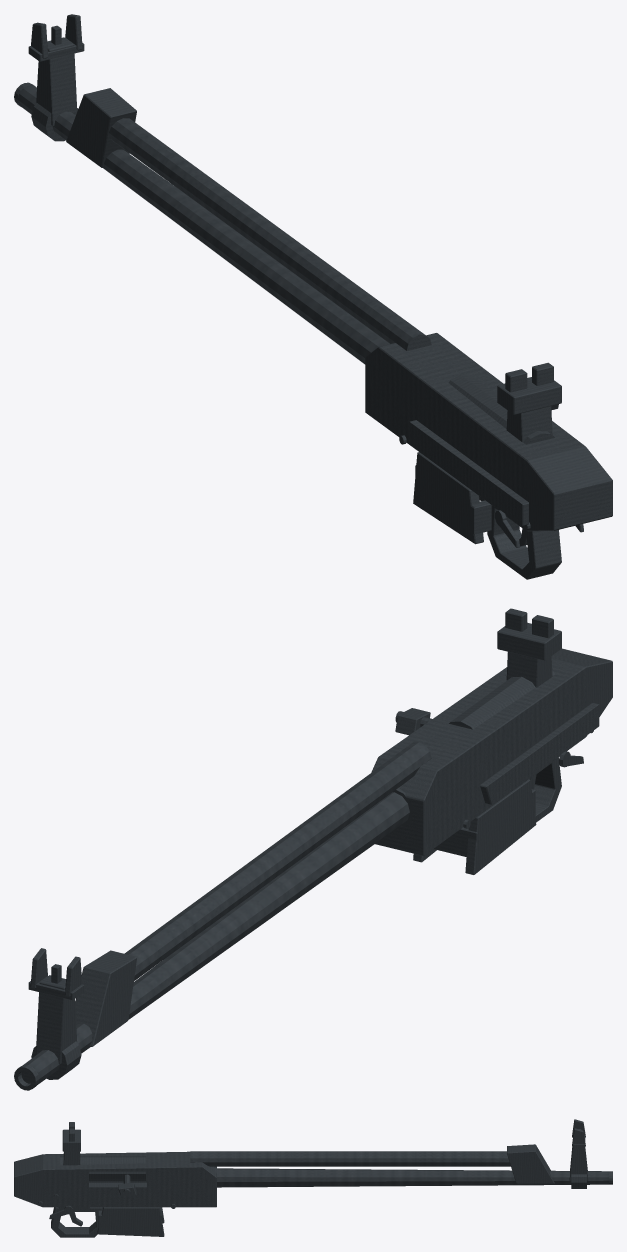
Rendered from weapon_svd.glb.
The picture shows the model from 3 angles, top to bottom: view 1: azimuth 30°, elevation 25°; view 2: azimuth 150°, elevation 25°; view 3: azimuth 270°, elevation 25°; orthographic projection. The views are drawn at different scales.
Parts seen in each view (by area): view 1: body_LOD0, action_LOD0; view 2: body_LOD0, action_LOD0; view 3: body_LOD0, action_LOD0.
Boxes of the visible parts, x1,y1,x2,y2 form: body_LOD0: (14, 14, 612, 579); action_LOD0: (448, 375, 558, 444); body_LOD0: (14, 608, 612, 1090); action_LOD0: (395, 670, 555, 735); body_LOD0: (14, 1119, 612, 1237); action_LOD0: (60, 1156, 145, 1195).
Size of what is drawn, in the model's own units: 0.1515 by 0.2517 by 1.24.
Materials: 1 (1 with a texture image).
